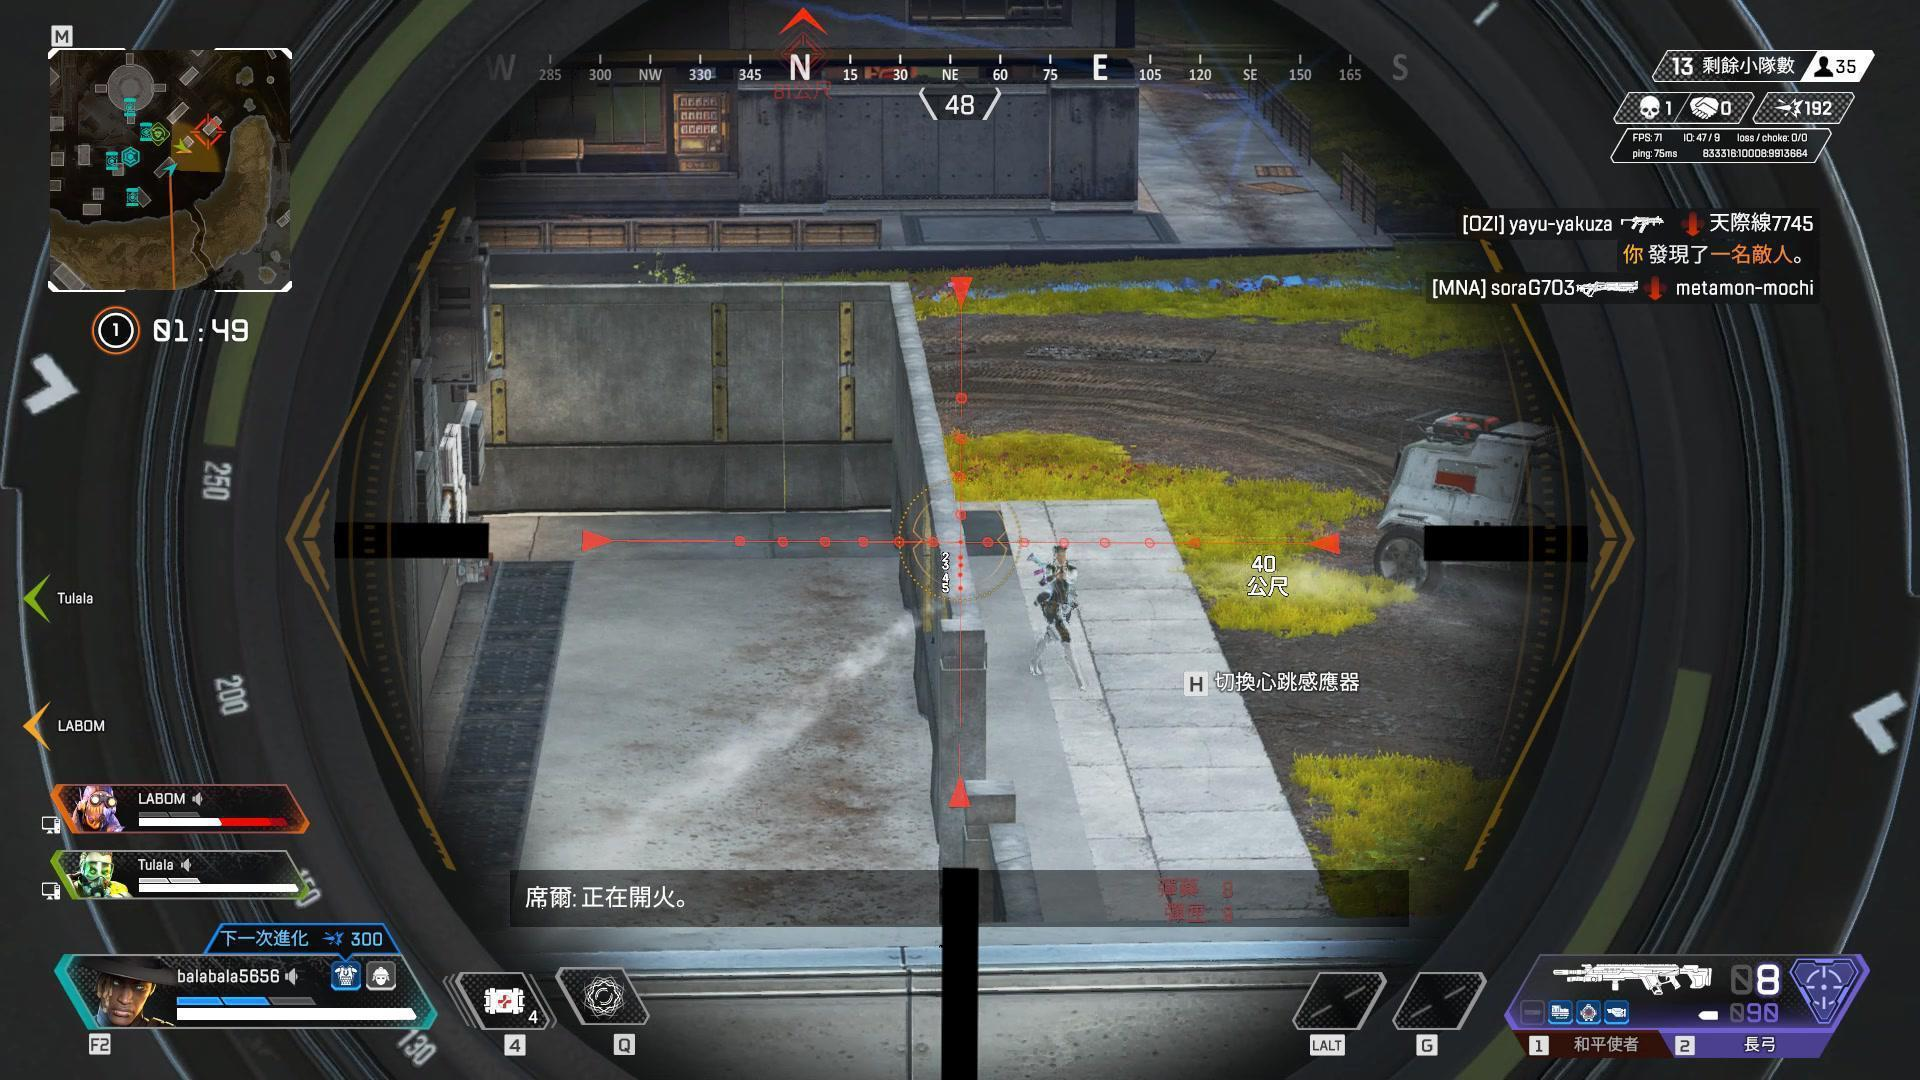avatar: (1027, 541, 1082, 680)
